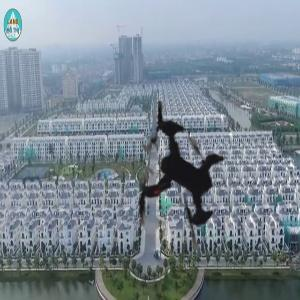drone: (71, 68, 286, 283)
